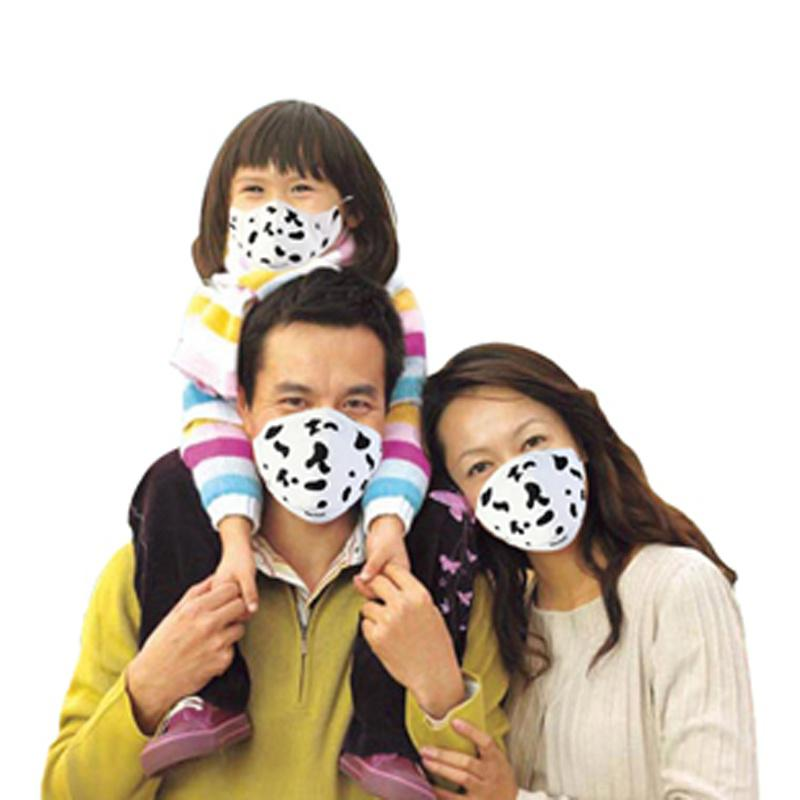OK: (250, 377, 391, 518), (453, 413, 593, 553), (222, 167, 325, 270)
